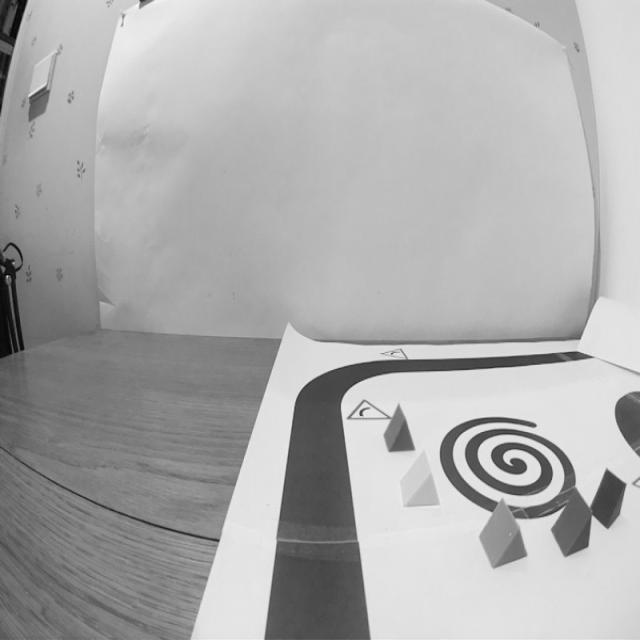lineStraight: (256, 471, 378, 640)
nest: (436, 410, 579, 522)
triangle: (478, 496, 527, 570), (397, 445, 443, 514), (548, 488, 592, 560), (590, 468, 628, 530), (383, 402, 415, 453)
